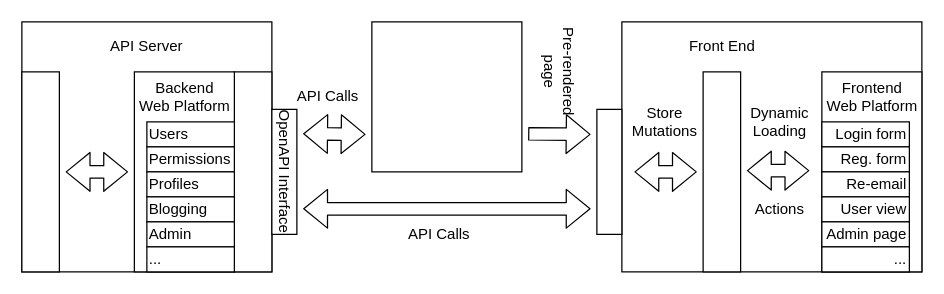
The diagram is 944 pixels wide and 294 high, and some of its shapes have lost their labels. The centre of each missing label's shape, as x and y in pixels:
FastAPI: the point at 252,171
Nuxt HTTP: the point at 609,171
Nuxt.JS Server: the point at 446,96
SQLAlchemy Database: the point at 40,171
Vuex Store: the point at 721,171
